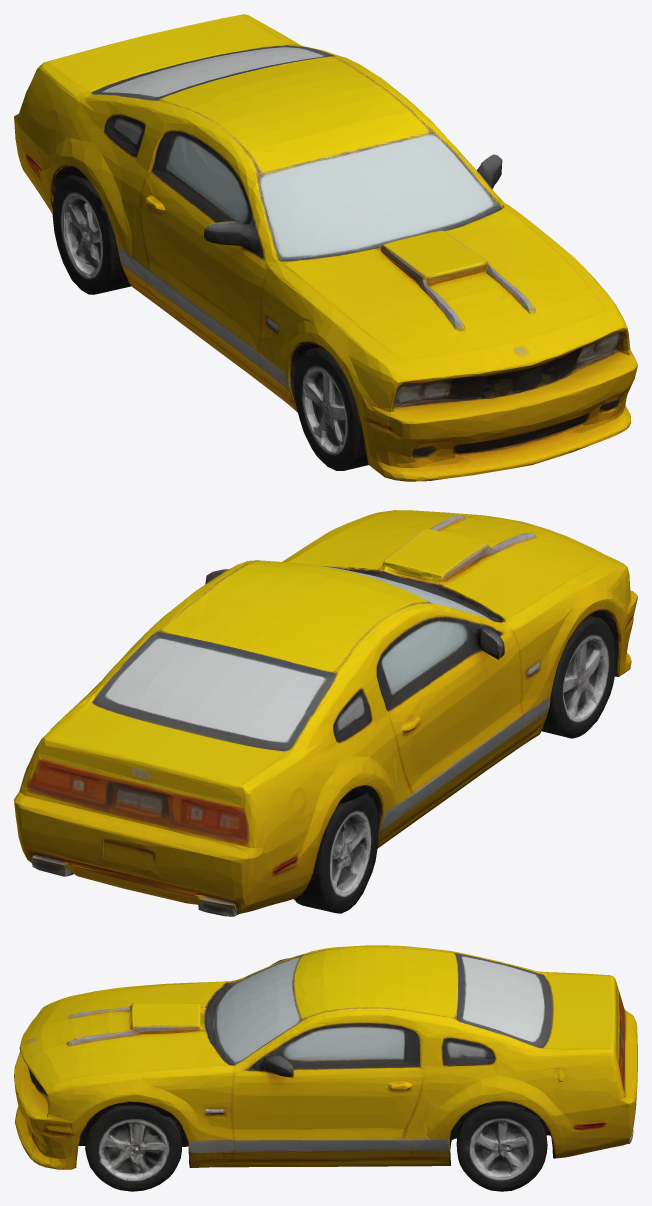
The model's file is car.glb.
The picture shows the model from 3 angles, top to bottom: view 1: azimuth 30°, elevation 25°; view 2: azimuth 150°, elevation 25°; view 3: azimuth 270°, elevation 25°; orthographic projection. The views are drawn at different scales.
Parts seen in each view (by area): view 1: world; view 2: world; view 3: world.
Part boxes in pixels (left/top/right/bottom): world: left=14, top=14, right=637, bottom=481; world: left=14, top=510, right=637, bottom=916; world: left=14, top=945, right=637, bottom=1191.
Bounding box in the file's own units: 0.4215 × 0.2967 × 0.9994.
Materials: 1 (1 with a texture image).
